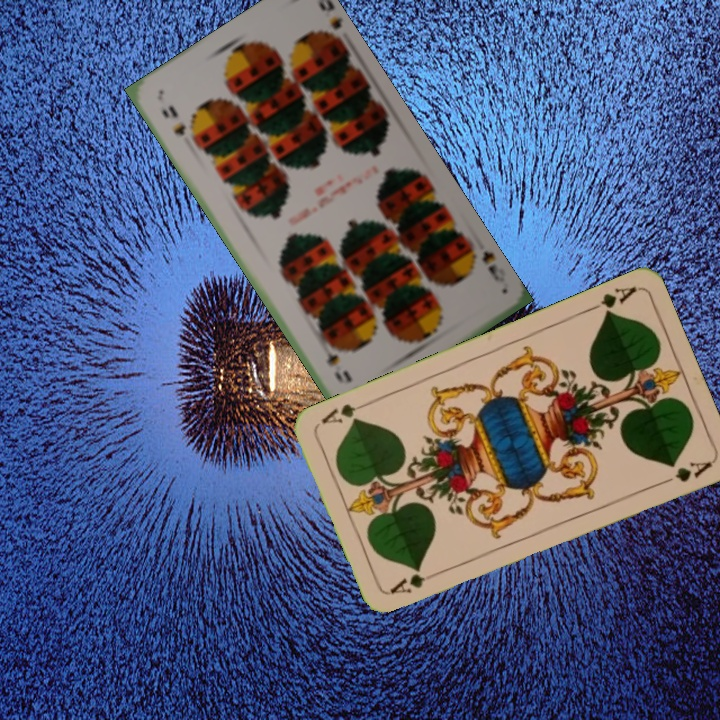GA: (583, 282, 639, 319), (386, 567, 443, 597)
S9: (462, 238, 508, 286), (157, 101, 189, 138)
